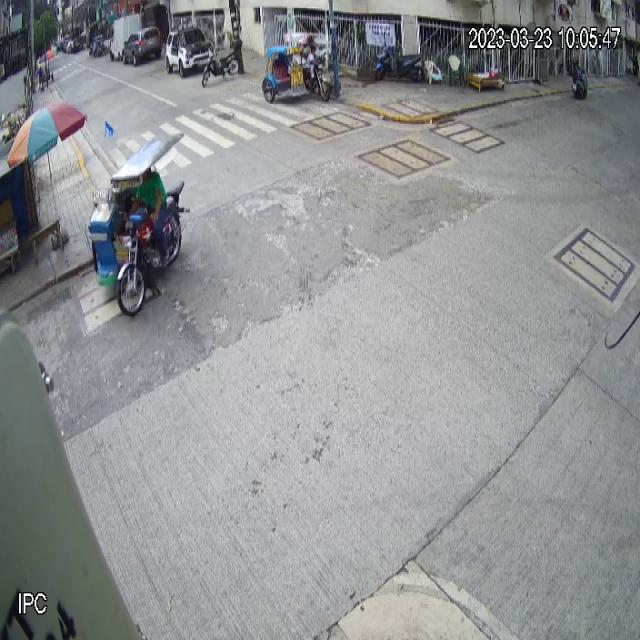Tricycle: (85, 135, 192, 319), (262, 32, 333, 104)
